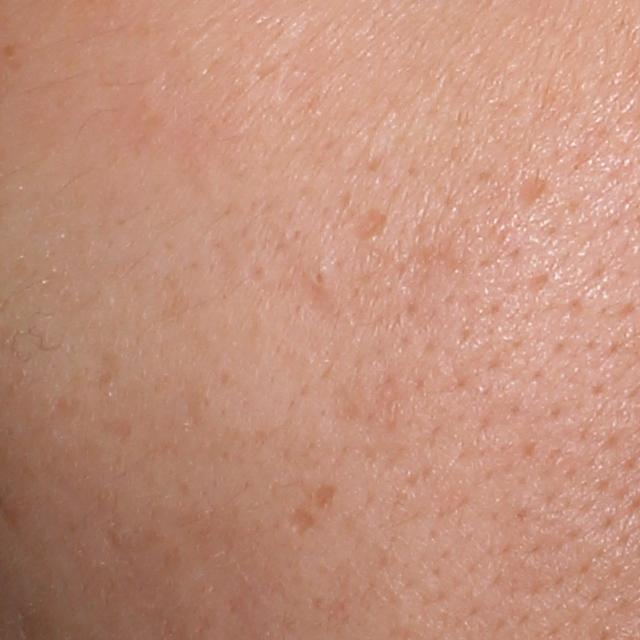atrophic_scar: (510, 172, 549, 212), (349, 208, 388, 239), (283, 505, 316, 537), (312, 483, 339, 514)
comedo: (304, 264, 335, 295)
